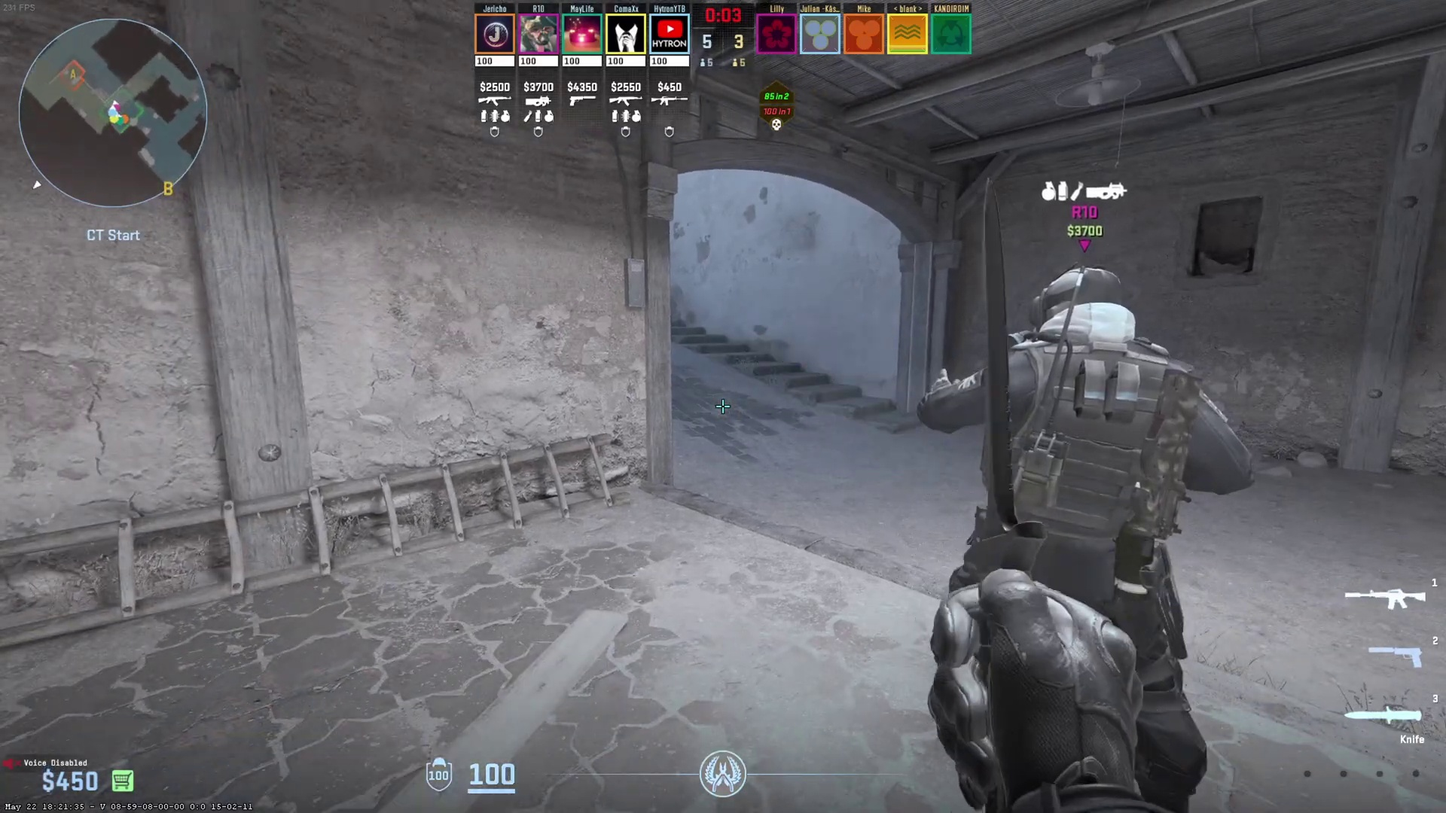CT: (979, 252, 1200, 773)
